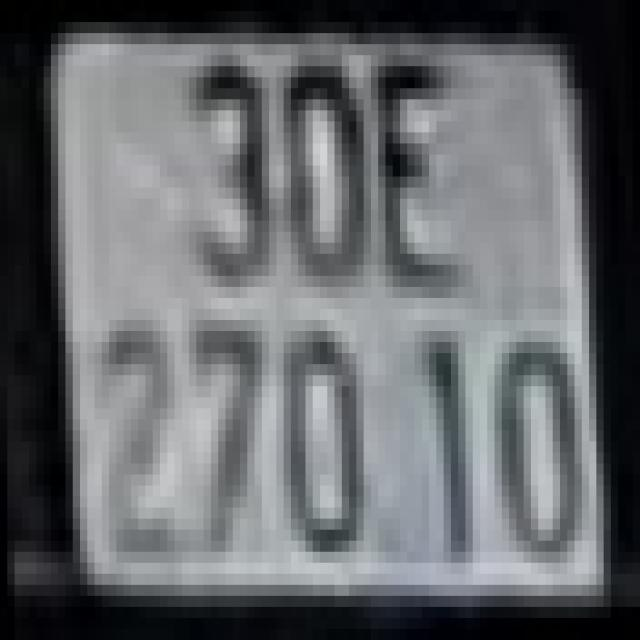0: (494, 331, 582, 563), (284, 320, 371, 552), (284, 55, 371, 287)
1: (407, 331, 480, 563)
2: (94, 320, 182, 552)
3: (182, 55, 276, 287)
7: (189, 320, 262, 552)
E: (371, 55, 473, 298)
